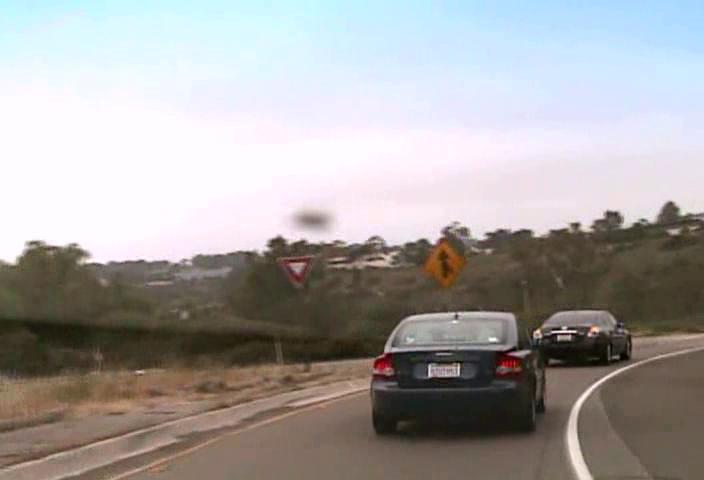yield: (276, 253, 315, 288)
